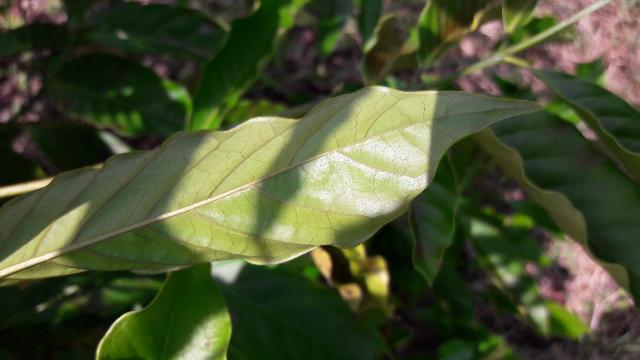healthy: (0, 83, 545, 286)
